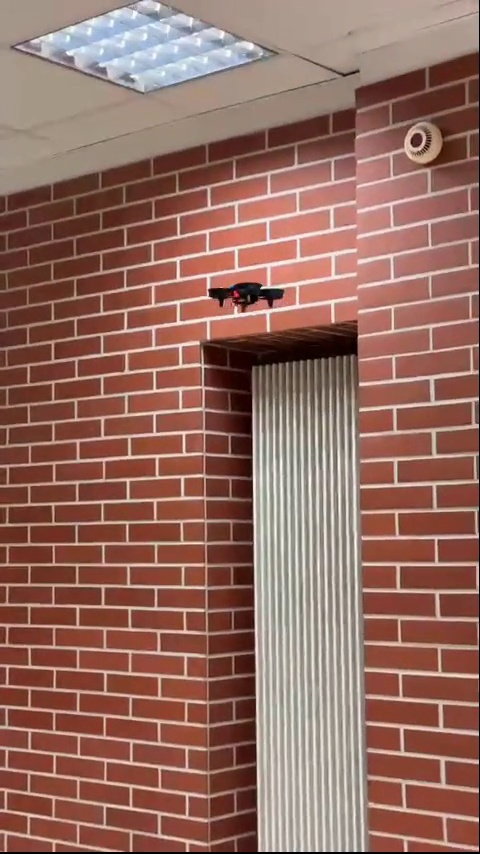drone: (202, 279, 284, 310)
